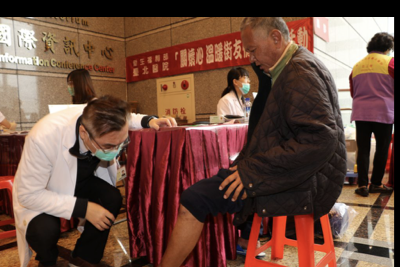with_mask: (89, 132, 129, 161), (238, 75, 251, 94), (67, 80, 78, 96)
without_mask: (243, 42, 278, 73)
